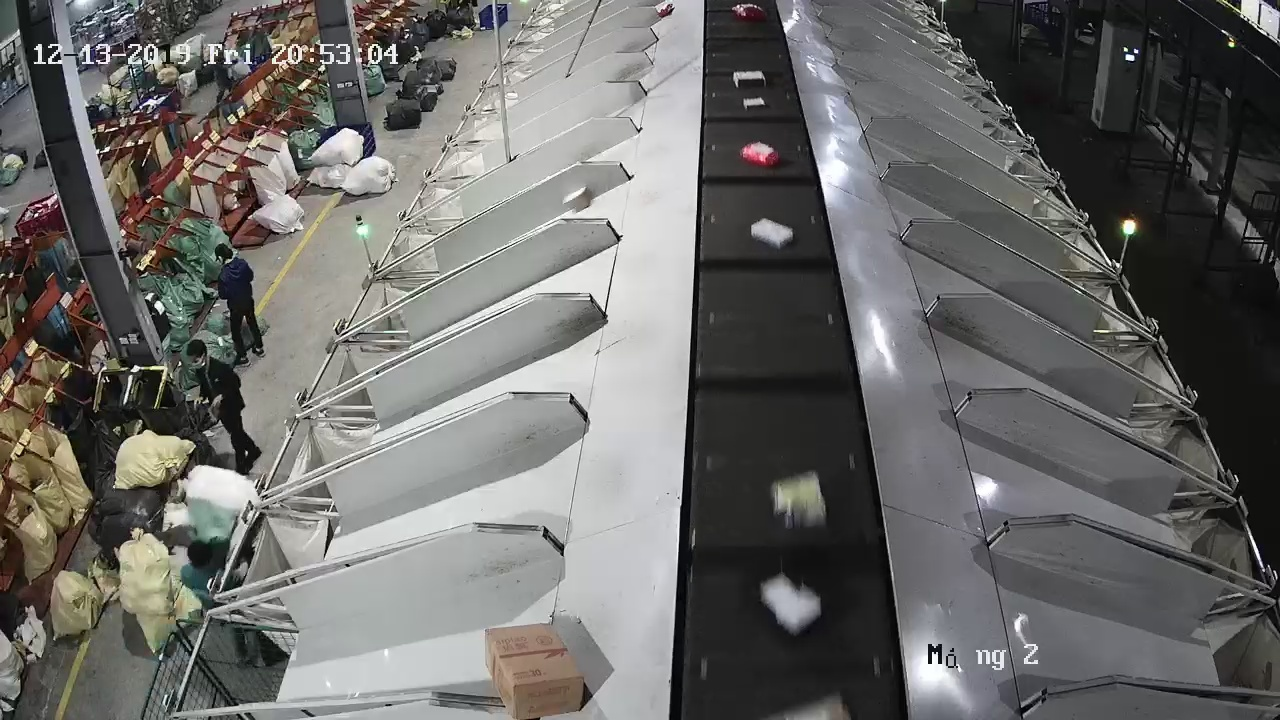parcel: (561, 185, 593, 213)
